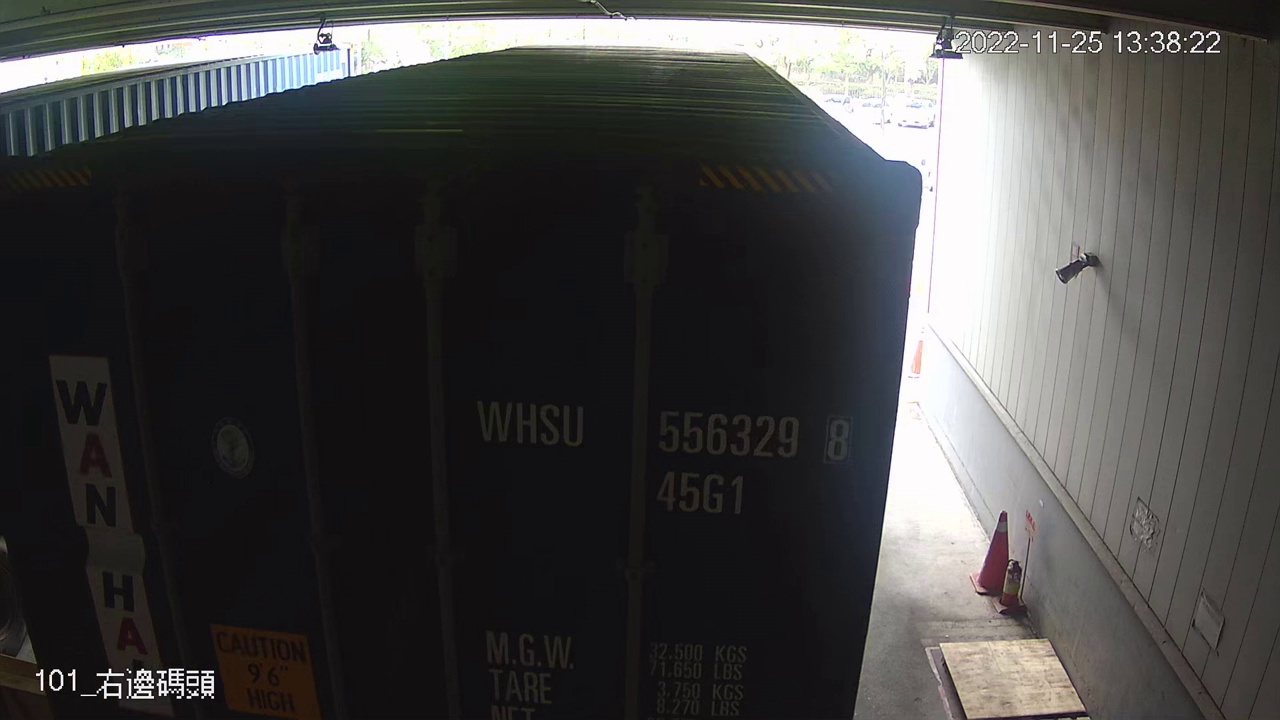container: (472, 379, 864, 526)
